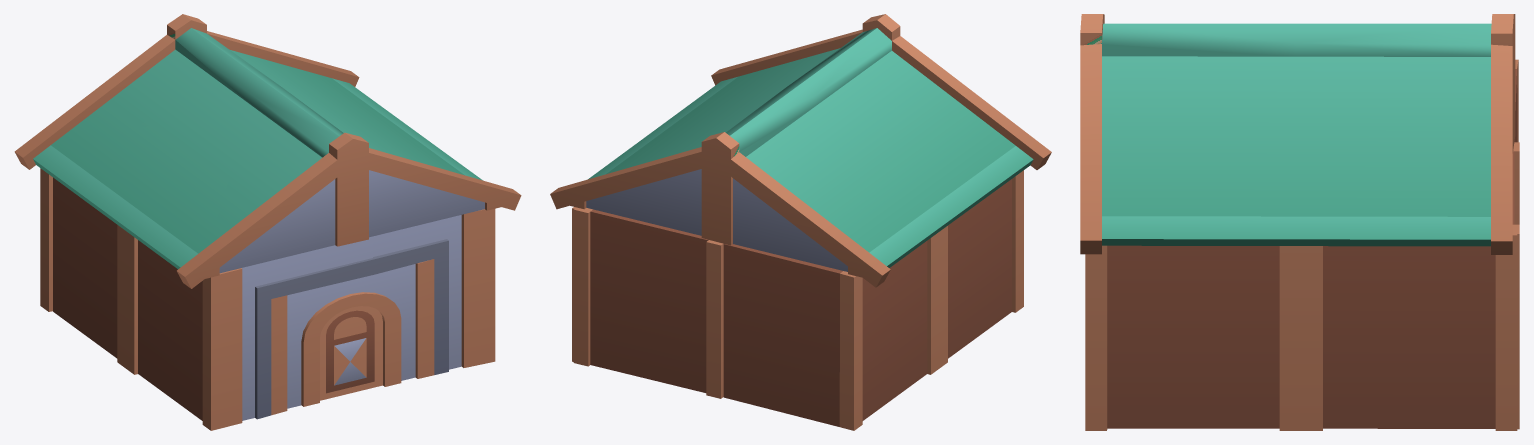
The model's file is house.glb.
3 renders of one model, left to right at view 1: azimuth 30°, elevation 25°; view 2: azimuth 150°, elevation 25°; view 3: azimuth 270°, elevation 25°, orthographic. The views are drawn at different scales.
Visible parts, largest first — view 1: roof-left.001; view 2: roof-left.001; view 3: roof-left.001.
Part boxes in pixels (x1,y1,x2,y2): roof-left.001: (14,14,521,430); roof-left.001: (550,14,1051,430); roof-left.001: (1080,14,1519,430).
Size of the model in its own units: 2.28 by 1.68 by 2.04.
Materials: 1 (1 with a texture image).
